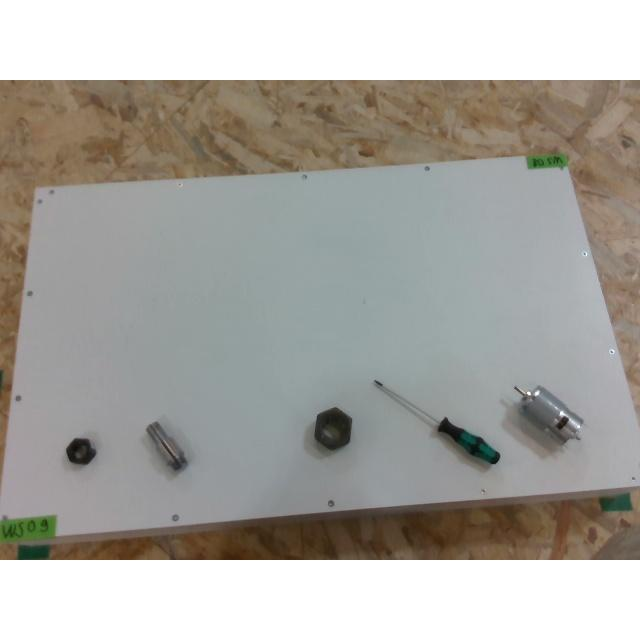Axis2: (146, 420, 187, 470)
M20: (66, 437, 96, 465)
M30: (314, 406, 351, 449)
Motor2: (514, 385, 582, 441)
Screwdriver: (372, 379, 500, 463)
